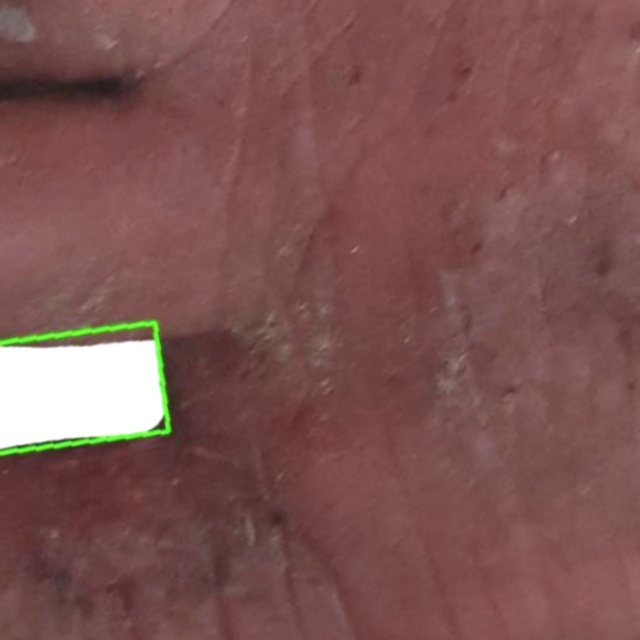Eczema: (0, 321, 169, 451)
